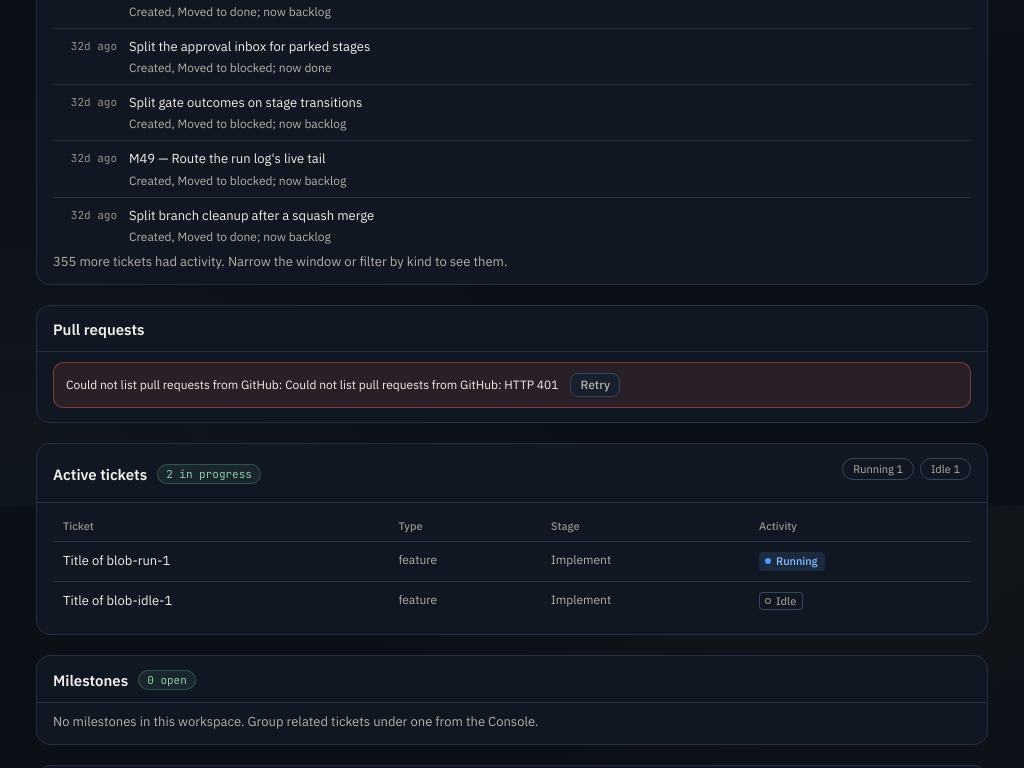
Test case: WorkspaceDashboardPage › keeps the rest of the page usable when GitHub cannot be asked, and retries on request
(page scrolled)
Check: the message shows "HTTP 401", box [285,377,558,392]
Check: the link "Title of blob-run-1" is shown, box [63,552,170,569]
What coordinates should you click on to do the following:
click the button "Retry"
I would click on:
 (595, 385)
Its box is [570,373,620,397].
(page scrolled)
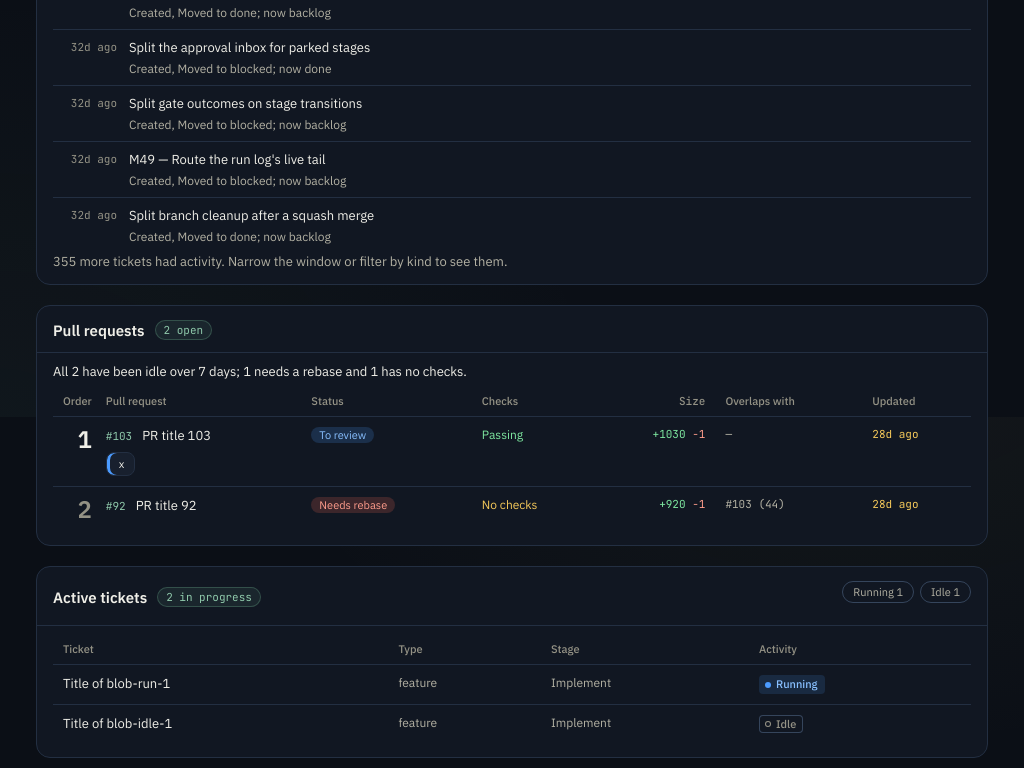
Check: the table named "pull requests" is shown, box [53,388,971,531]
